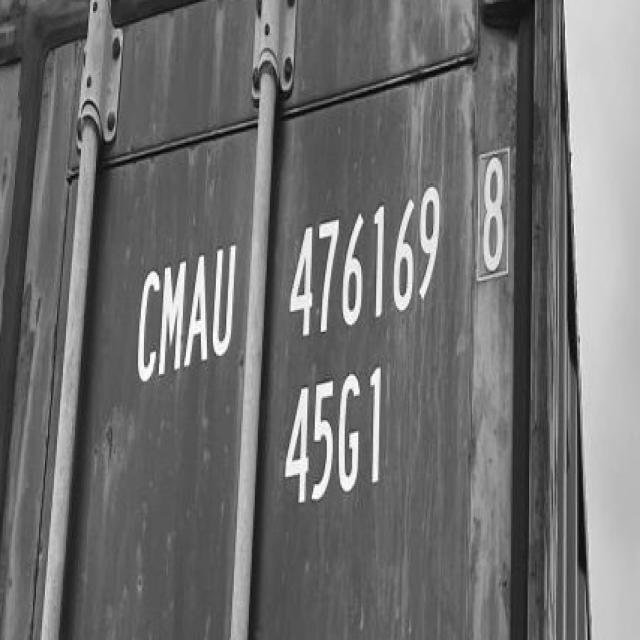dv: (471, 139, 515, 296)
owner: (124, 230, 240, 383)
serial: (286, 178, 441, 344)
size: (274, 362, 397, 515)
